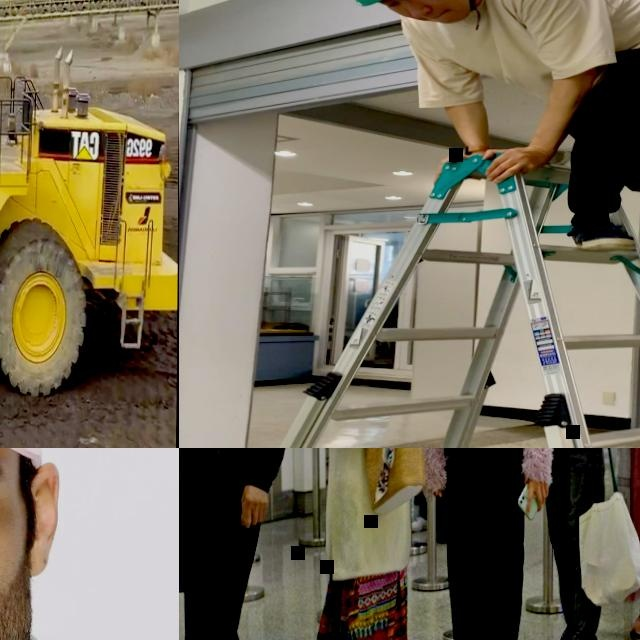NO-Mask: (421, 0, 479, 24)
NO-Safety Vest: (424, 0, 640, 94)
Person: (320, 0, 640, 307), (0, 448, 179, 640), (435, 448, 551, 640), (179, 448, 290, 640), (309, 448, 413, 640), (516, 448, 617, 640)
machinery: (0, 0, 179, 407)
